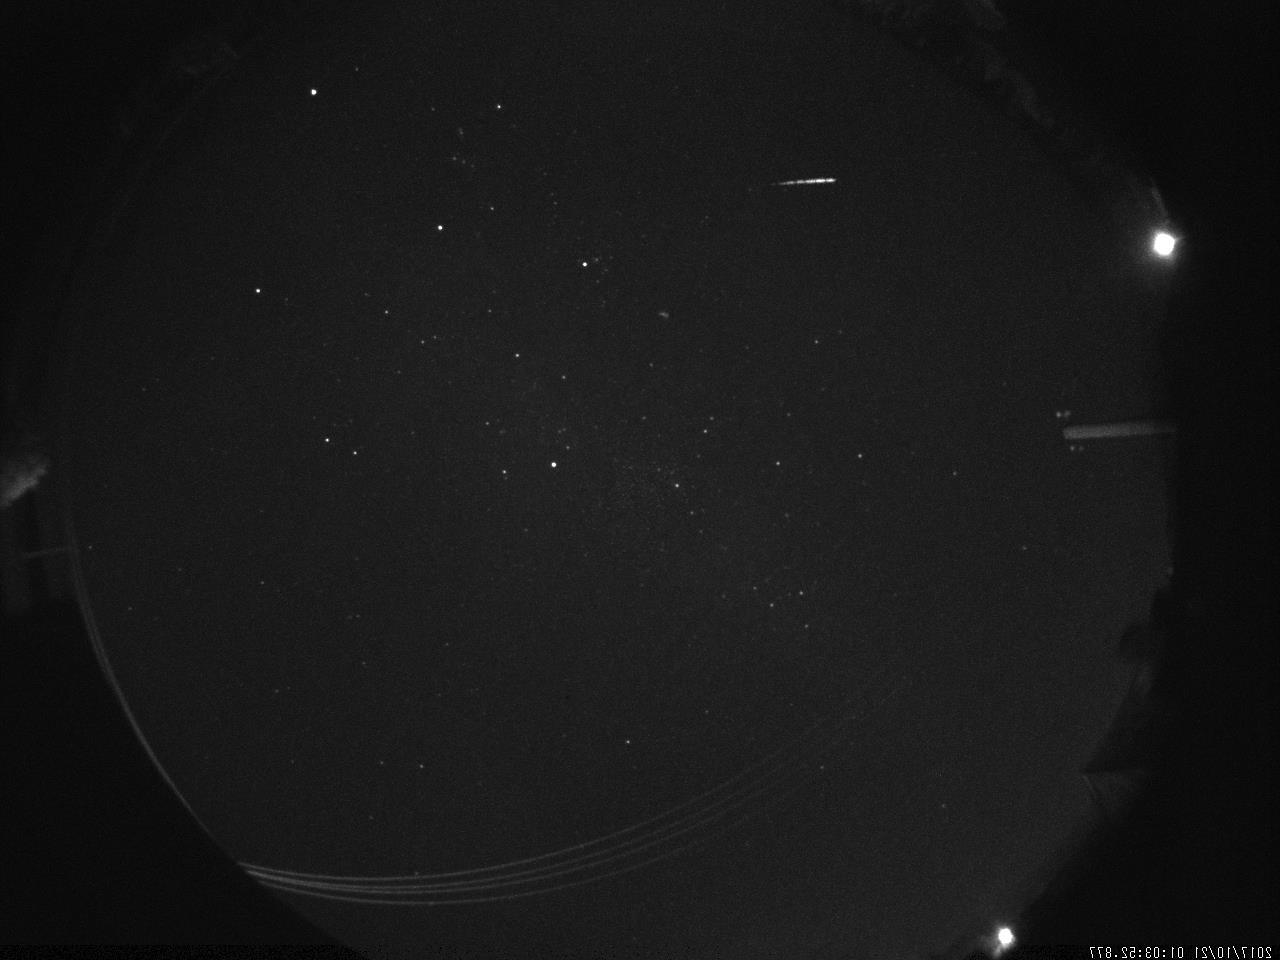meteor: (748, 160, 869, 204)
